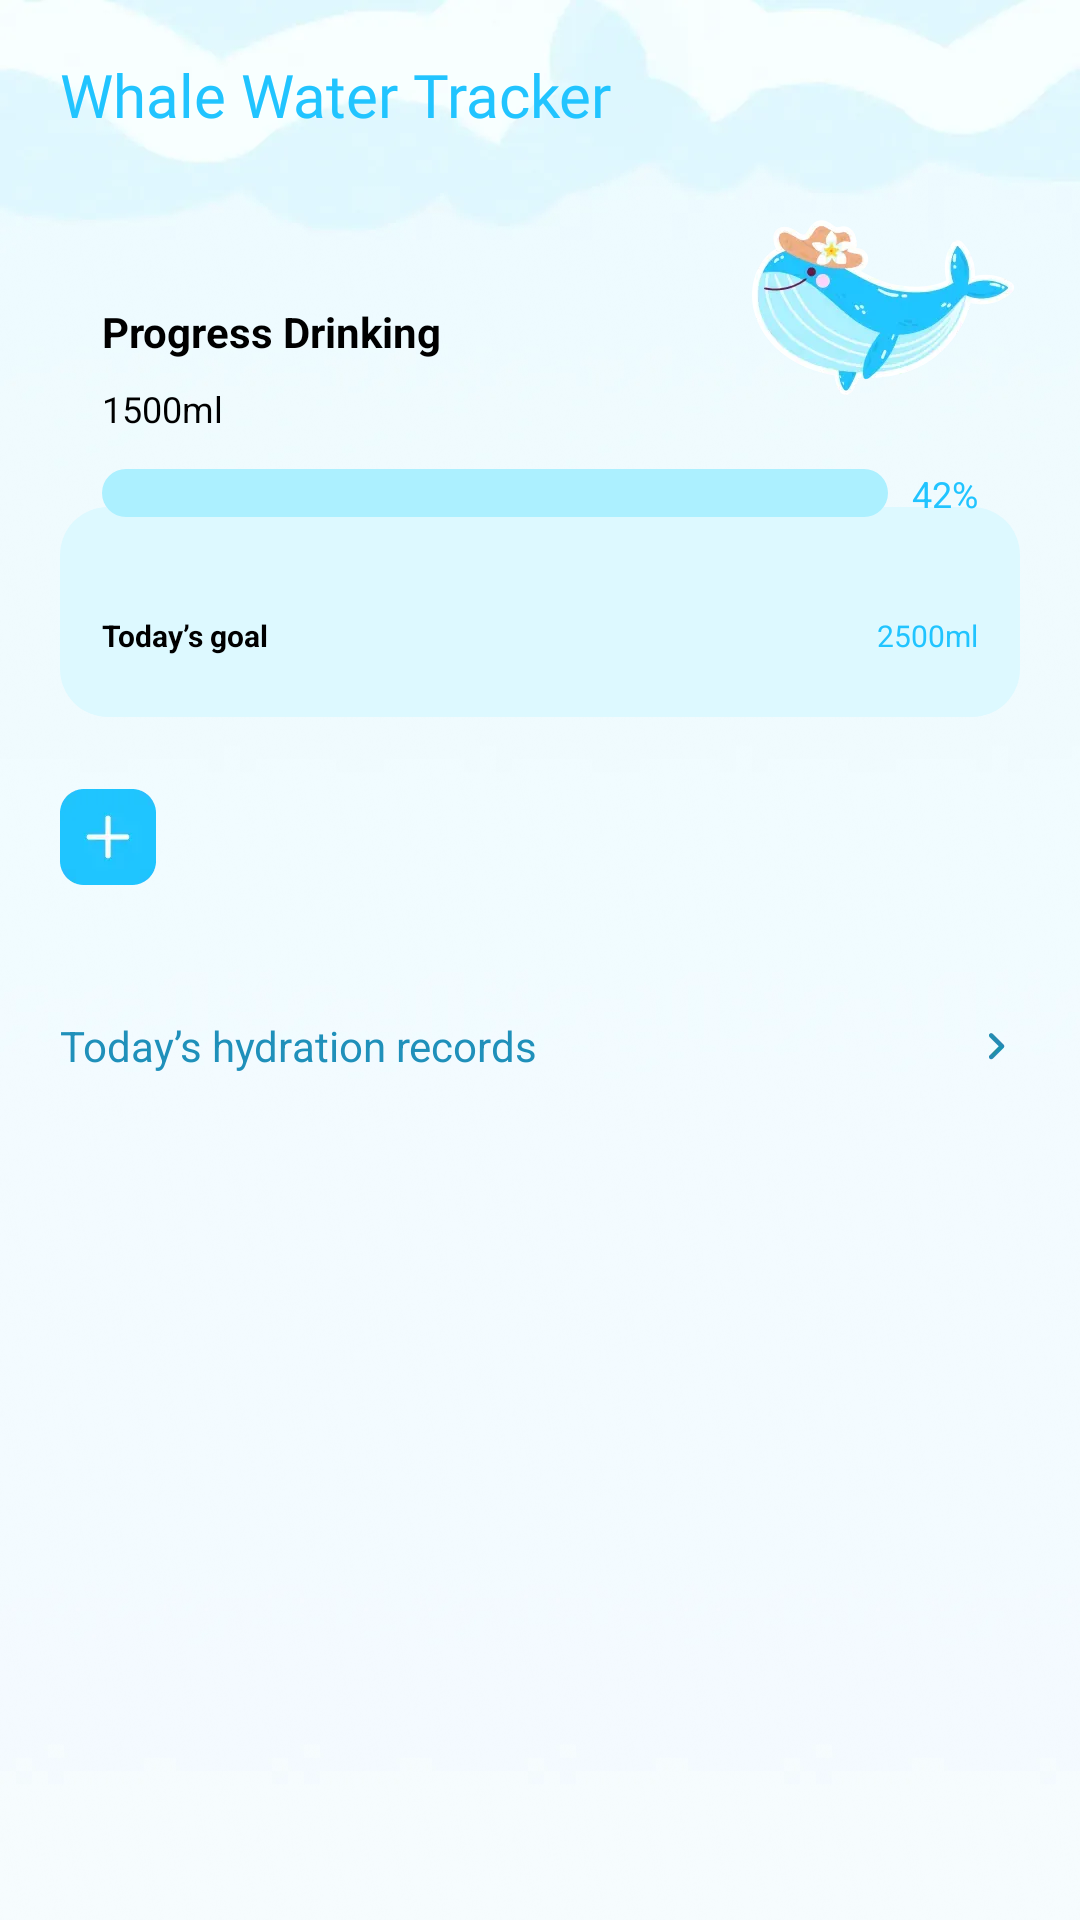

Icons on this 1080x1920 Android screen, each with the point to tap as point (x, y):
add: point (108, 837)
